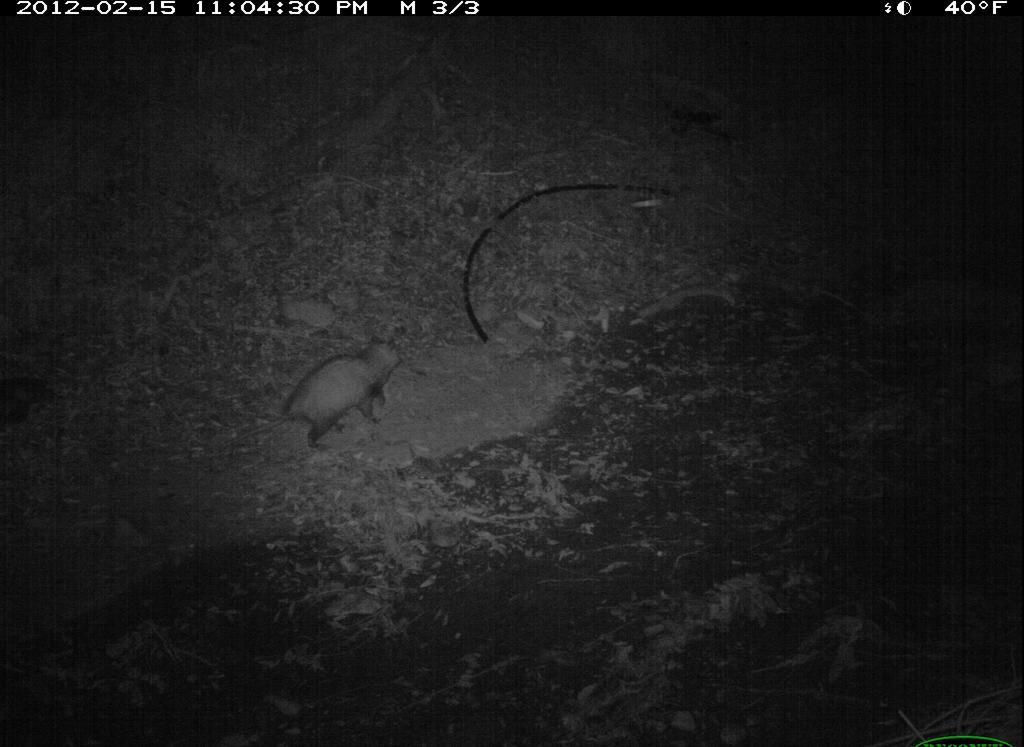opossum: (225, 336, 406, 457)
